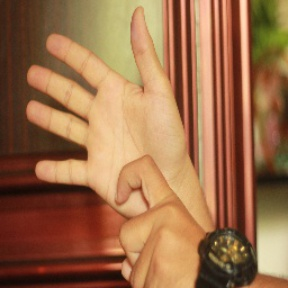R: (32, 6, 201, 288)
